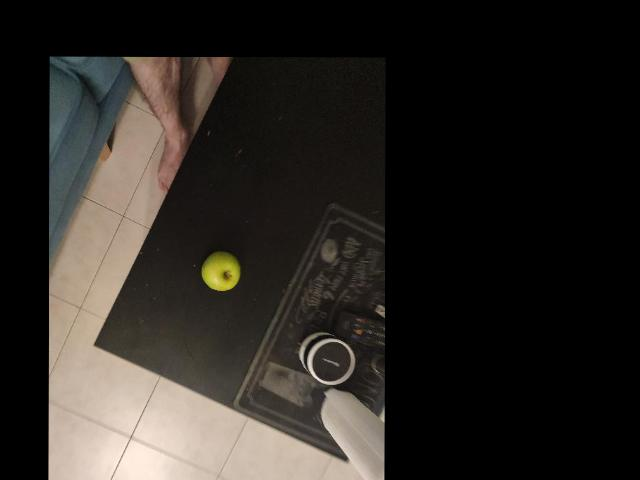apple: (131, 312, 176, 358)
